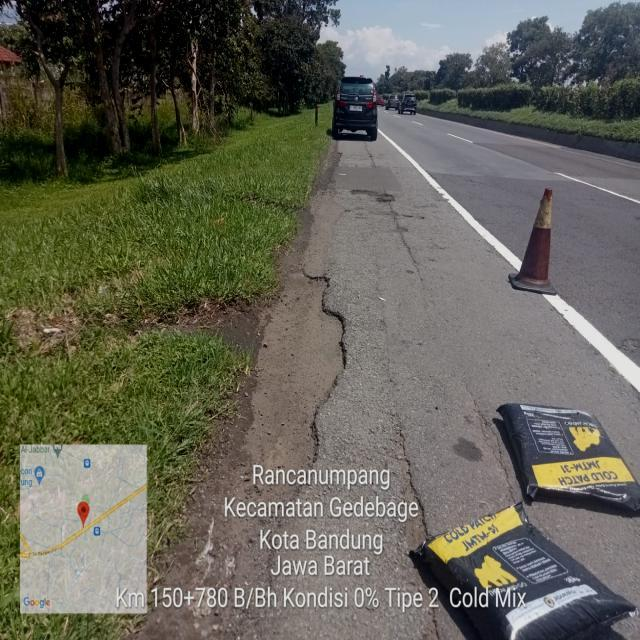Buraco: (228, 267, 350, 622), (347, 188, 398, 204)
